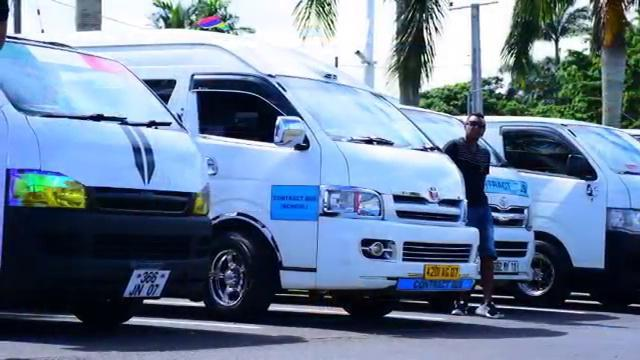van: (122, 23, 485, 292), (0, 31, 211, 338)
